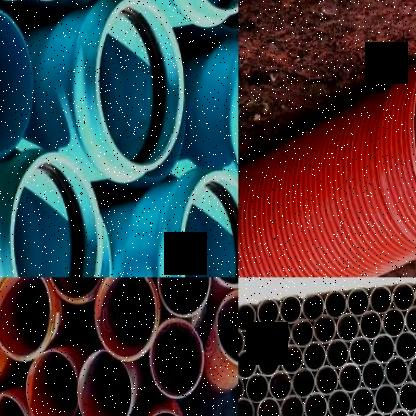pipe: (94, 0, 183, 168), (10, 151, 102, 277), (180, 169, 238, 277), (94, 277, 157, 358), (0, 6, 34, 154), (150, 318, 203, 398), (0, 277, 51, 360), (77, 349, 132, 416), (26, 349, 78, 416), (157, 278, 210, 315), (408, 47, 416, 237), (218, 289, 238, 364), (44, 277, 107, 300), (179, 0, 238, 14), (384, 356, 409, 388), (314, 365, 339, 397), (245, 373, 270, 404), (338, 362, 362, 394), (374, 384, 398, 416), (268, 370, 292, 402), (325, 338, 349, 370), (280, 343, 304, 375), (292, 368, 316, 399), (302, 341, 326, 372), (348, 336, 372, 367), (336, 312, 360, 343), (256, 347, 280, 378), (372, 334, 396, 364), (361, 361, 385, 391), (312, 315, 336, 345), (381, 308, 405, 338), (268, 321, 292, 351), (290, 318, 314, 348), (256, 298, 280, 328), (351, 387, 375, 416), (358, 311, 382, 340), (324, 290, 347, 320), (347, 288, 370, 318), (394, 330, 416, 361), (326, 389, 351, 416), (302, 292, 324, 322), (246, 324, 268, 354), (0, 393, 28, 416), (279, 296, 302, 324), (396, 381, 416, 413), (392, 283, 414, 312), (370, 286, 392, 314), (303, 391, 327, 416), (238, 350, 257, 379), (280, 394, 304, 416), (238, 303, 256, 332), (255, 397, 280, 416), (404, 304, 416, 335), (238, 398, 255, 416), (407, 354, 416, 386), (238, 328, 245, 358), (238, 375, 245, 404), (387, 408, 412, 416), (363, 410, 388, 416), (339, 414, 364, 416)
